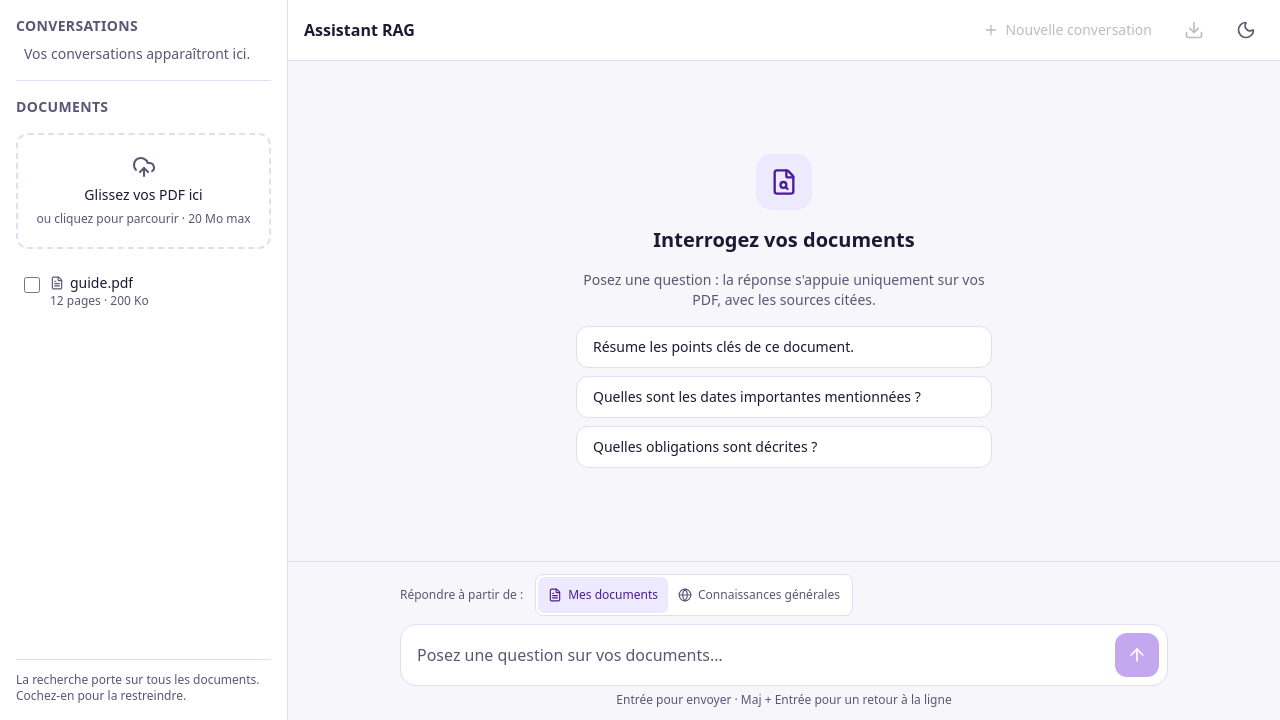
Scenario: App › streams an answer, then opens the cited source when its number is clicked
Later steps or results of the test are not shown.
Check: the text "guide.pdf" is shown, box [70,273,133,293]
Type "Combien de congés ?" into the text box named "Votre question" at x=758, y=655, box [409,633,1107,677]
Then press Enter
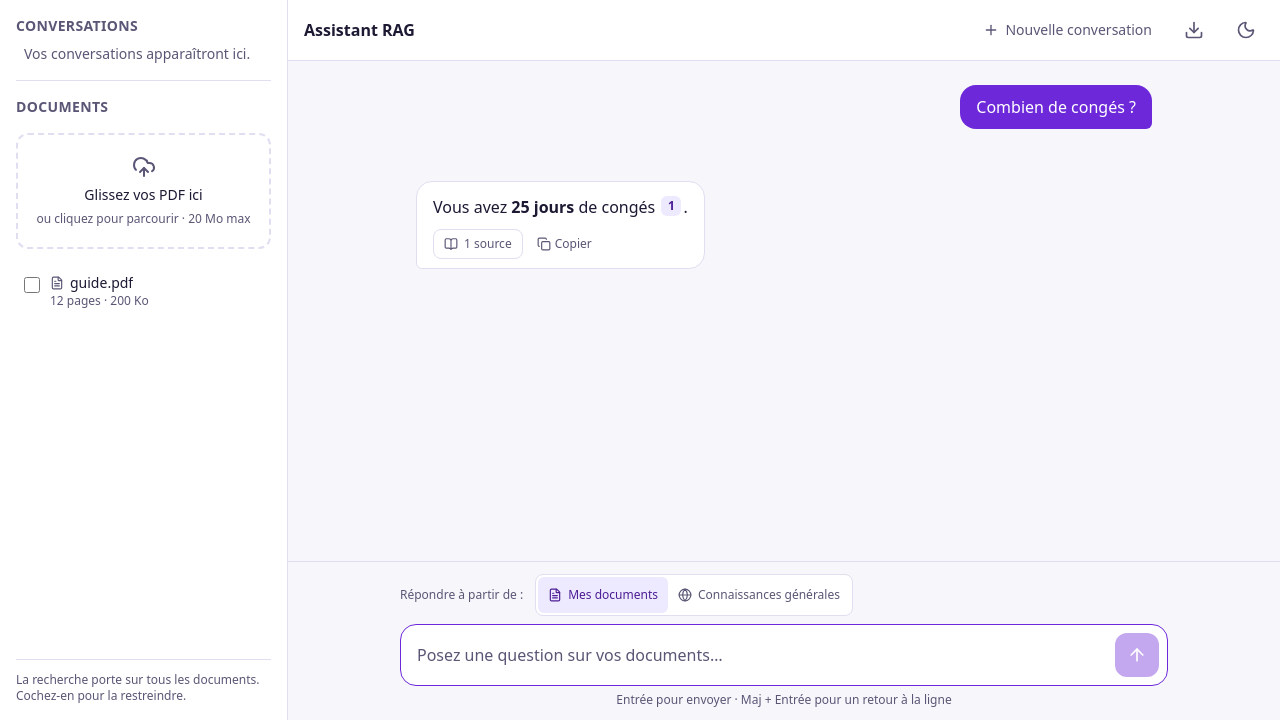
Check: the button named "Arrêter la réponse" is shown, box [1115,633,1159,677]
Check: the text "Combien de congés ?" is shown, box [960,85,1152,129]
Click the button named "Voir la source 1" at x=671, y=206, box [661,196,681,216]
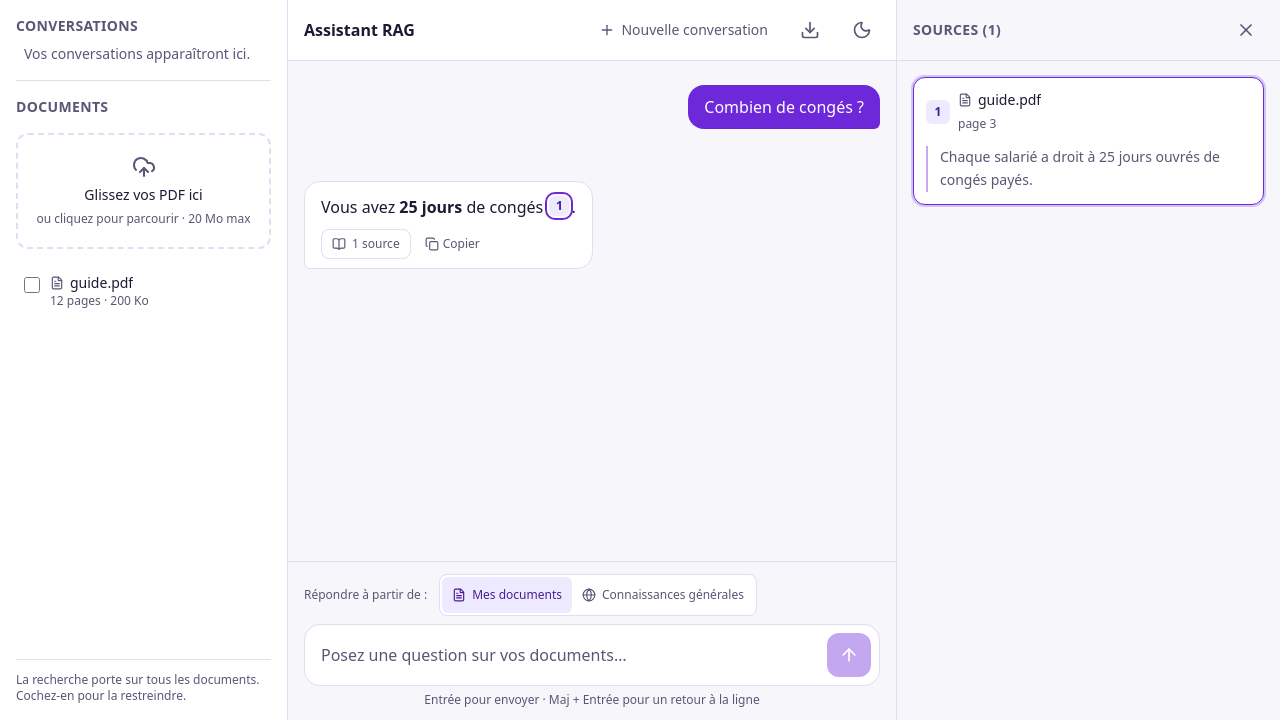
Check: the text "Chaque salarié a droit à 25 jours ouvrés de congés payés." is shown, box [926,146,1251,192]
Check: the text "page 3" is shown, box [958,115,996,132]
